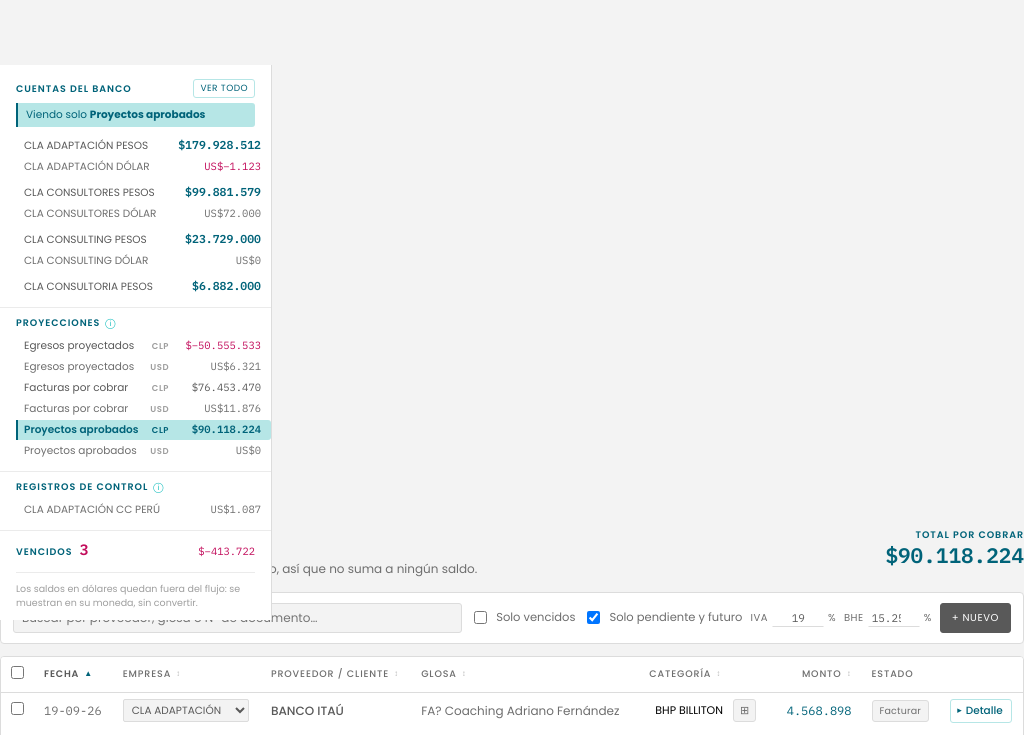
Test: Cobrar recorre la cadena, no salta al banco › el hito se ve en la fila y se puede editar
Click the button titled "Abrir el detalle" in the row of "19-09-26".
click(981, 711)  # box [950,699,1012,723]
(page scrolled)
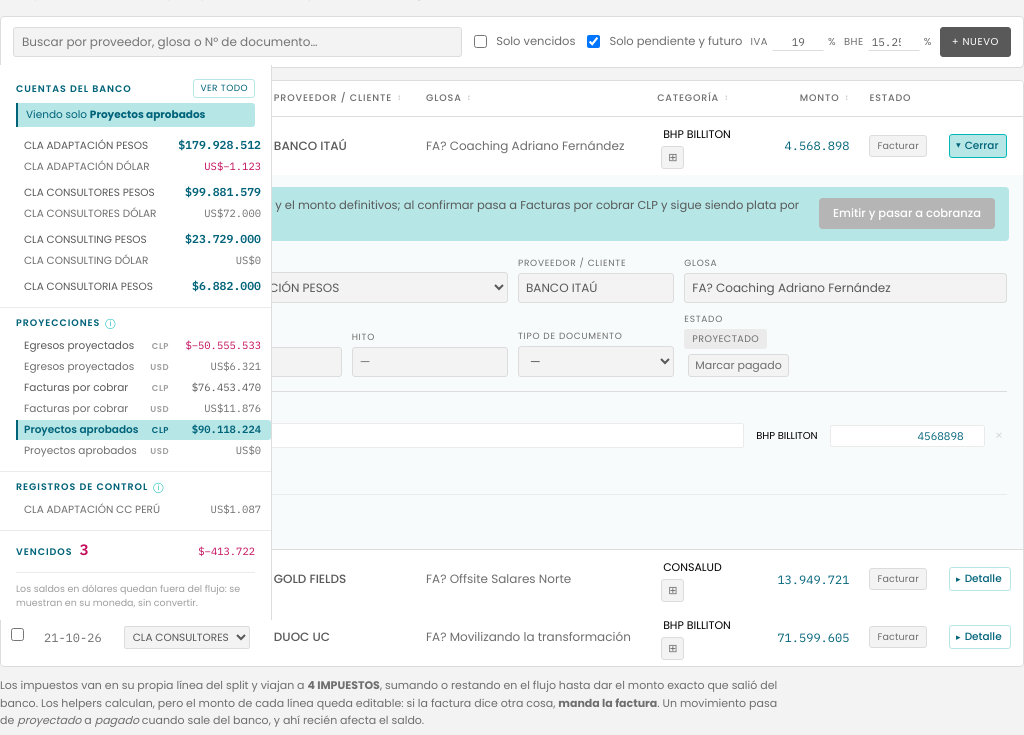
Type "3" into the number field named "Número de hito".
click(430, 362); type("3")  # box [352,347,508,377]
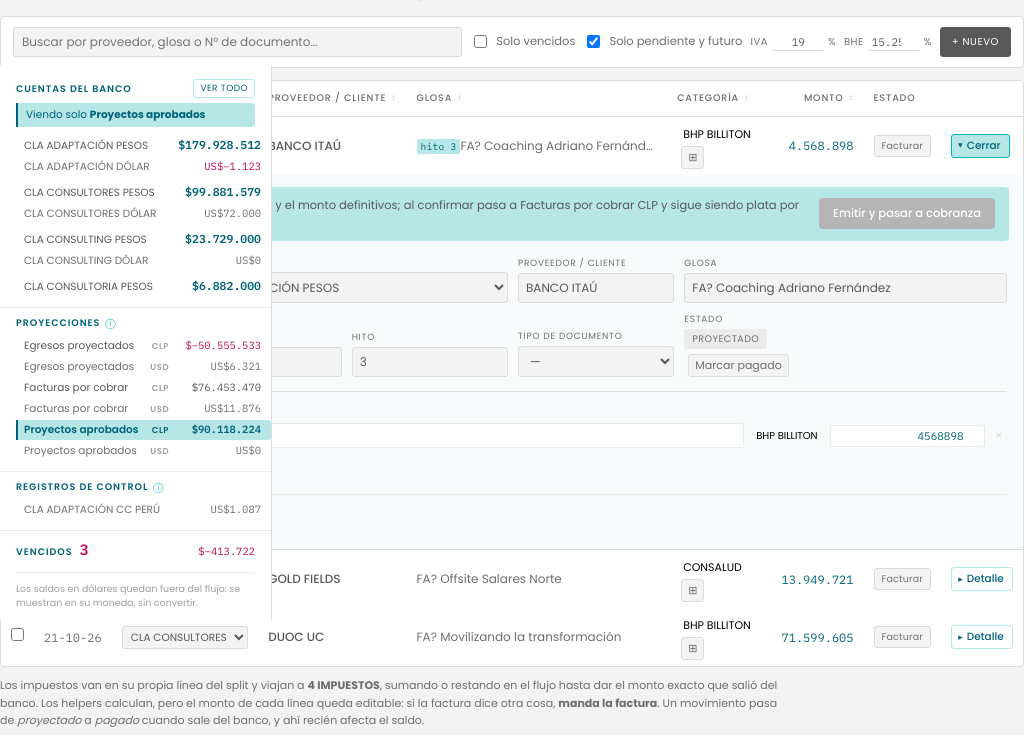
Now the text "hito 3" is shown, box [416,139,460,154]
Note: Vaciarlo lo quita: cero no es un hito.
Clear the number field named "Número de hito" at (430, 362), box [352,347,508,377]
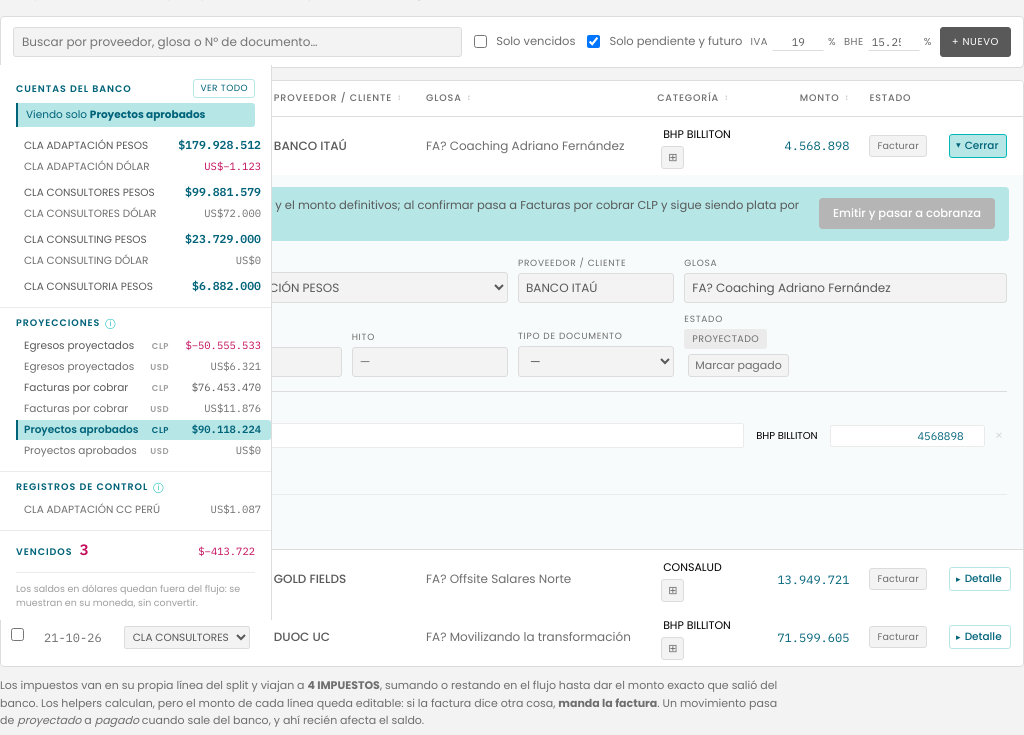
Now the text "hito 3" is gone
